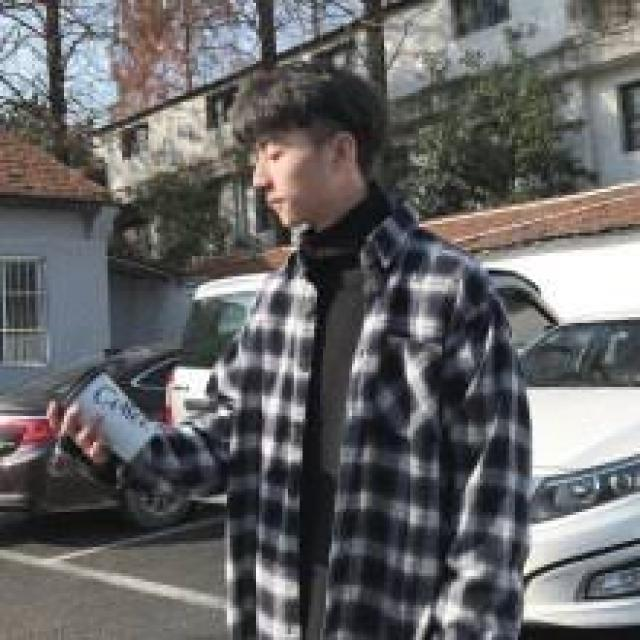plaid: (197, 221, 537, 640)
